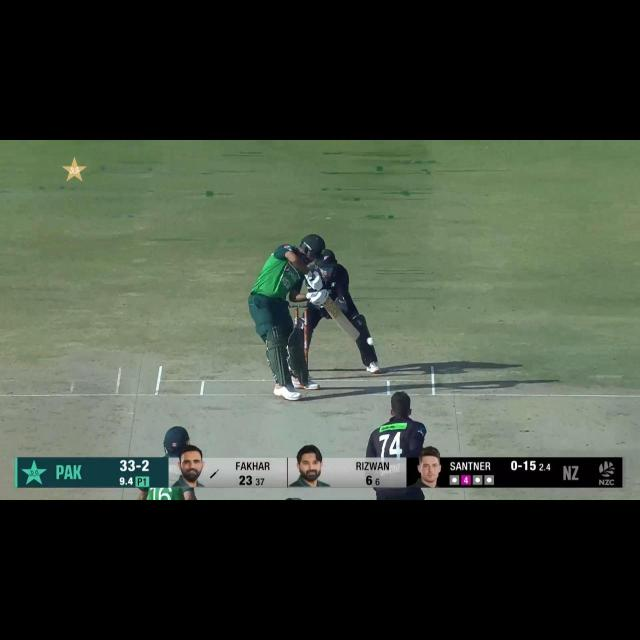bat: (322, 300, 363, 342)
toe: (346, 324, 363, 346)
